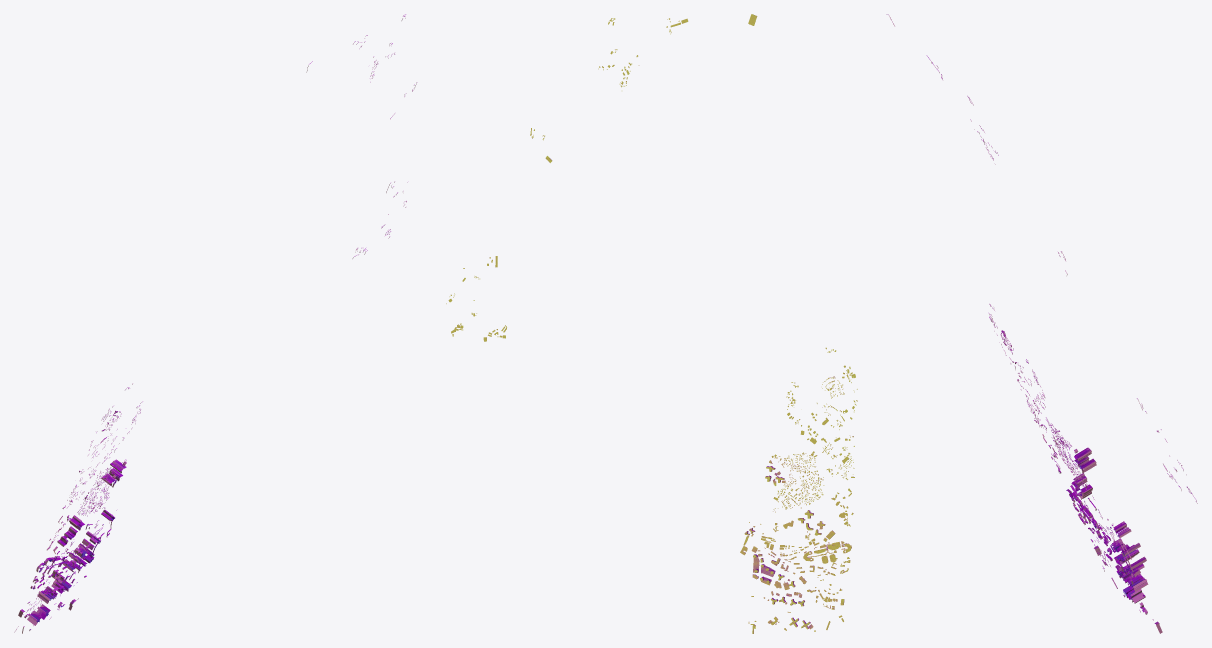
3 views of the same model, side by side, from view 1: azimuth 30°, elevation 25°; view 2: azimuth 150°, elevation 25°; view 3: azimuth 270°, elevation 25° (orthographic). The views are drawn at different scales.
Visible parts, largest first — view 1: geometry_0; view 2: geometry_0; view 3: geometry_0.
Part boxes in pixels (left/top/right/bottom): geometry_0: left=14, top=14, right=417, bottom=633; geometry_0: left=446, top=14, right=857, bottom=633; geometry_0: left=886, top=14, right=1197, bottom=633.
Bounding box in the file's own units: 3394 × 4594 × 1890.
